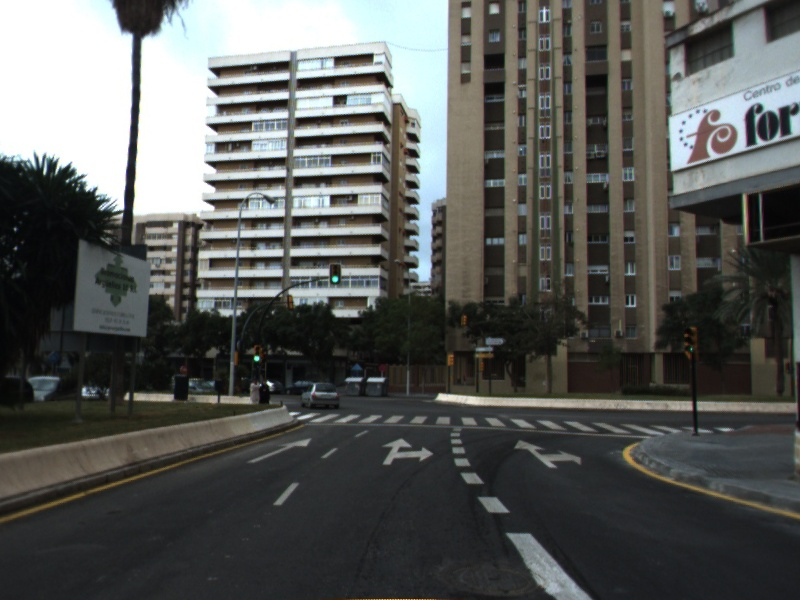STRAIGHT: (245, 436, 314, 465)
STRAIGHT_RIGHT: (511, 438, 583, 470), (379, 436, 436, 467)
